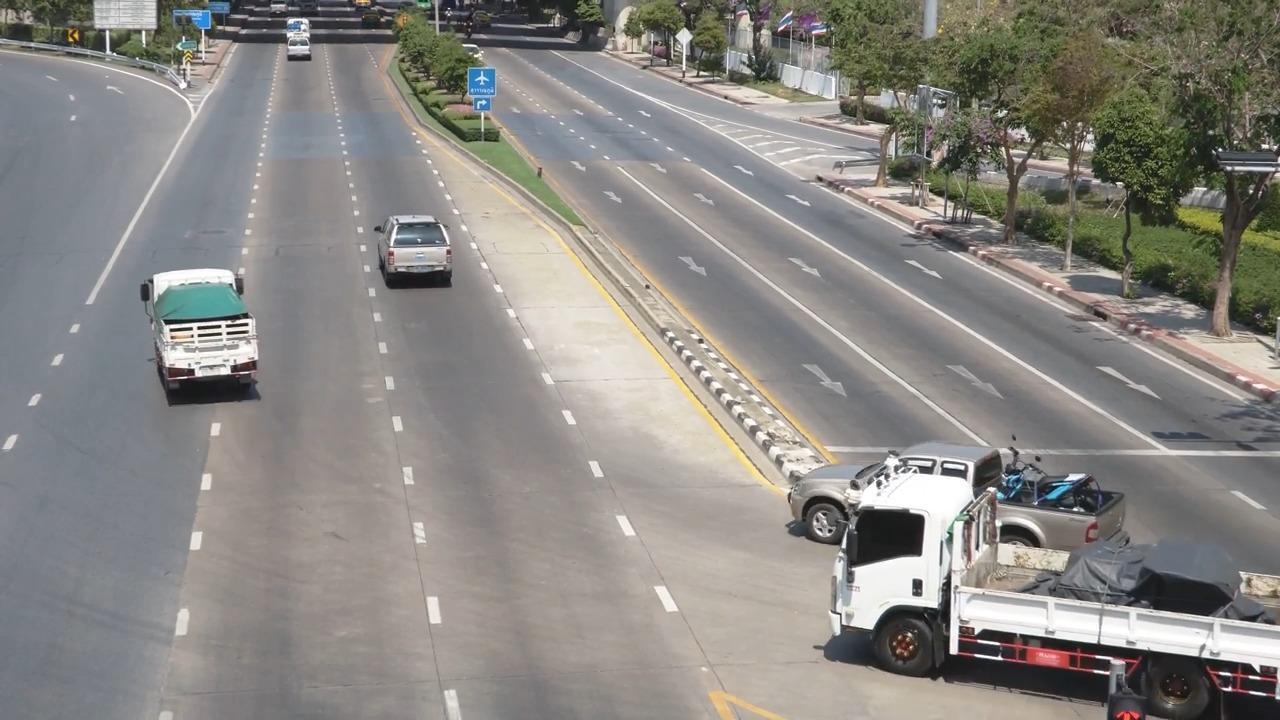CAR: (823, 468, 1280, 720), (133, 252, 290, 409), (781, 429, 1006, 486), (369, 204, 477, 299), (277, 37, 323, 72), (282, 18, 321, 54)
